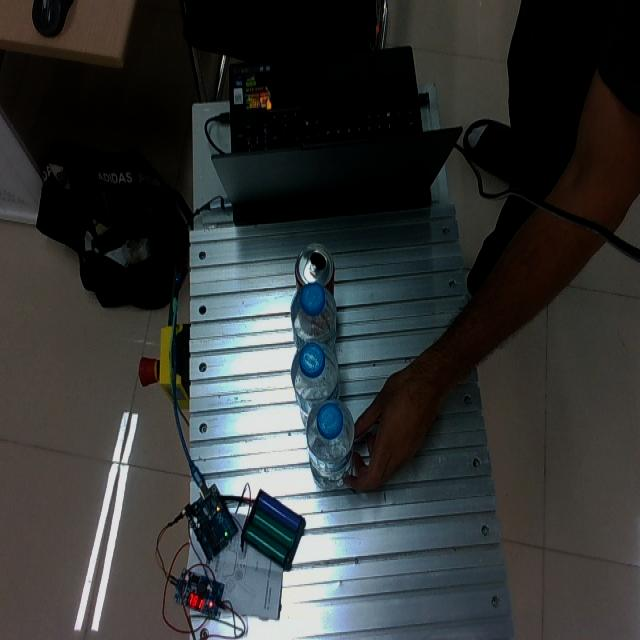coca: (293, 242, 336, 298)
lavie: (303, 398, 355, 490), (291, 341, 340, 420), (290, 282, 338, 354)
